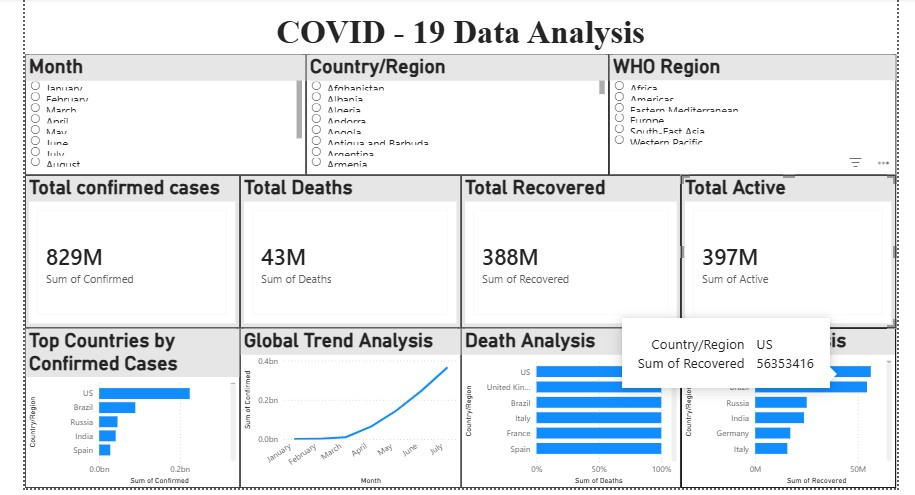

This screenshot's page, from the dashboard's own definition file:
{"tool":"powerbi","page":{"name":"Page 1","canvas":[1280,720],"ordinal":0},"visuals":[{"type":"textbox","box":[0,0,1280,82.3],"z":0},{"type":"cardVisual","title":"Total confirmed cases","fields":{"Data":["Sum(covid_19_clean_complete.Confirmed)"]},"box":[0,260.1,315.9,224.8],"z":1},{"type":"cardVisual","title":"Total Deaths","fields":{"Data":["Sum(covid_19_clean_complete.Deaths)"]},"box":[315.9,260.1,324.7,224.8],"z":2},{"type":"cardVisual","title":"Total Recovered","fields":{"Data":["Sum(covid_19_clean_complete.Recovered)"]},"box":[640.7,260.1,323.3,224.8],"z":3},{"type":"cardVisual","title":"Total Active","fields":{"Data":["Sum(covid_19_clean_complete.Active)"]},"box":[963.9,260.1,315.9,224.8],"z":4},{"type":"clusteredBarChart","title":"Top Countries by Confirmed Cases","fields":{"Category":["covid_19_clean_complete.Country/Region"],"Y":["Sum(covid_19_clean_complete.Confirmed)"]},"box":[0,484.9,315.9,235.1],"z":5},{"type":"lineChart","title":"Global Trend Analysis","fields":{"Category":["covid_19_clean_complete.Date.Variation.Date Hierarchy.Month"],"Y":["Sum(covid_19_clean_complete.Confirmed)"]},"box":[315.9,484.9,324.7,235.1],"z":6},{"type":"hundredPercentStackedBarChart","title":"Death Analysis","fields":{"Category":["covid_19_clean_complete.Country/Region"],"Y":["Sum(covid_19_clean_complete.Deaths)"]},"box":[640.7,484.9,323.3,235.1],"z":7},{"type":"clusteredBarChart","title":"Recovery Analysis","fields":{"Category":["covid_19_clean_complete.Country/Region"],"Y":["Sum(covid_19_clean_complete.Recovered)"]},"box":[963.9,484.9,315.9,235.1],"z":8},{"type":"listSlicer","fields":{"Values":["covid_19_clean_complete.Date.Variation.Date Hierarchy.Month"]},"box":[0,82.3,413.2,178.1],"z":9},{"type":"listSlicer","fields":{"Values":["covid_19_clean_complete.Country/Region"]},"box":[413.2,82.3,445.1,178.1],"z":10},{"type":"listSlicer","fields":{"Values":["covid_19_clean_complete.WHO Region"]},"box":[858.4,82.3,421.6,178.1],"z":11}]}

Visuals, with their boxes in screenshot pixels (x1, y1, x2, y2):
textbox: 24,0,893,53
"Total confirmed cases" cardVisual: 24,174,238,327
"Total Deaths" cardVisual: 238,174,459,327
"Total Recovered" cardVisual: 459,174,678,327
"Total Active" cardVisual: 678,174,893,327
"Top Countries by Confirmed Cases" clusteredBarChart: 24,327,238,486
"Global Trend Analysis" lineChart: 238,327,459,486
"Death Analysis" hundredPercentStackedBarChart: 459,327,678,486
"Recovery Analysis" clusteredBarChart: 678,327,893,486
listSlicer - covid_19_clean_complete.Date.Variation.Date Hierarchy.Month: 24,53,304,174
listSlicer - covid_19_clean_complete.Country/Region: 304,53,606,174
listSlicer - covid_19_clean_complete.WHO Region: 607,53,893,174
